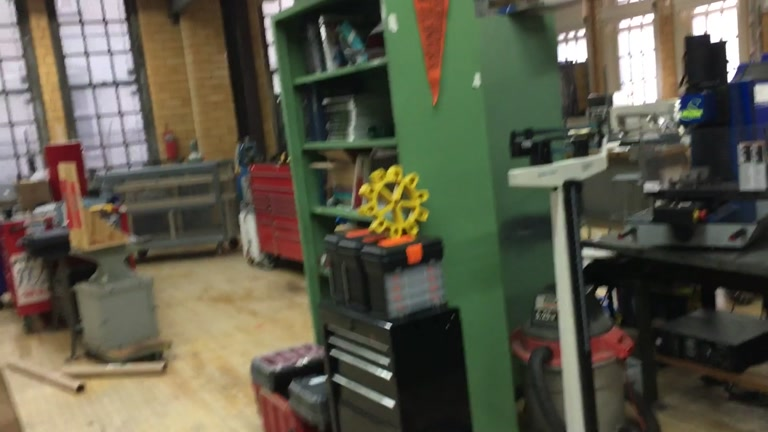gear: (357, 164, 428, 241)
